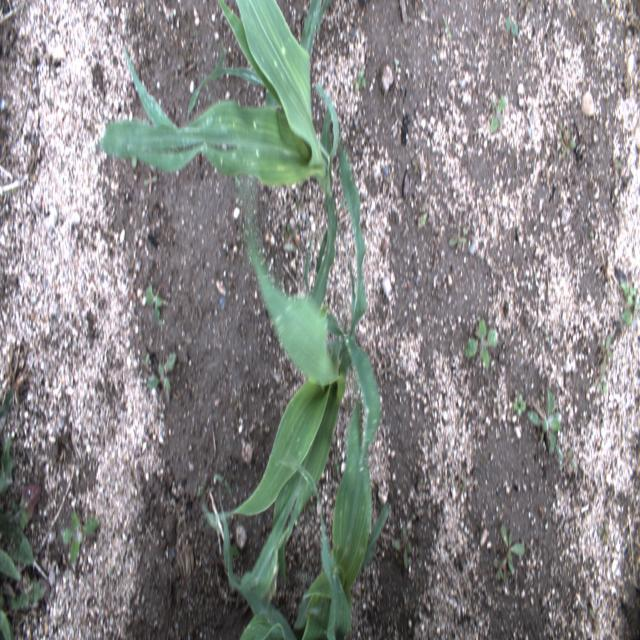crop: (100, 0, 340, 329), (214, 149, 380, 586), (219, 395, 392, 624)
weed: (527, 388, 563, 454), (462, 315, 500, 373), (61, 509, 102, 562), (494, 525, 526, 580), (146, 351, 176, 391), (392, 524, 413, 572), (144, 282, 164, 329), (619, 282, 637, 326), (490, 92, 507, 134), (599, 332, 614, 378), (448, 229, 469, 252), (559, 130, 576, 158), (504, 15, 521, 40), (595, 518, 611, 544), (512, 391, 526, 418), (143, 169, 158, 194), (354, 66, 366, 92), (566, 449, 577, 471), (411, 506, 424, 521), (108, 562, 115, 576), (145, 350, 150, 366)
